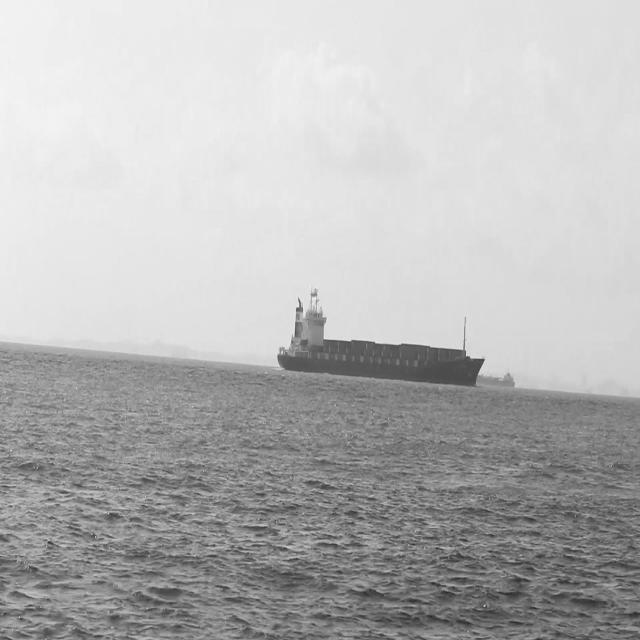ship: (275, 289, 486, 386), (478, 357, 522, 385)
